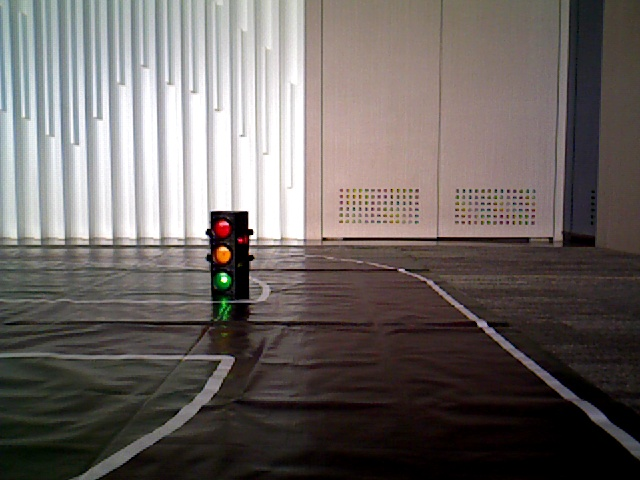green: (213, 215, 232, 287)
